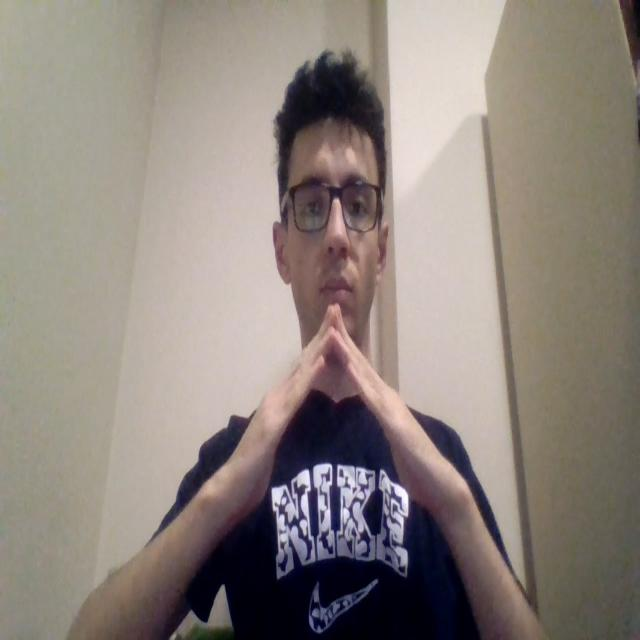house: (227, 301, 445, 510)
